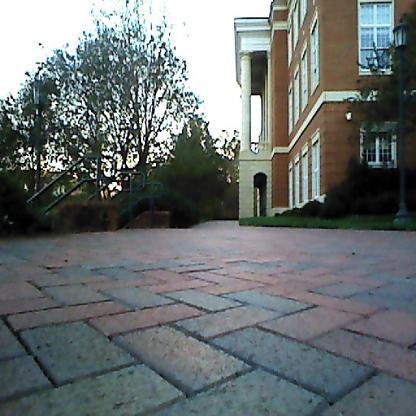Sidewalk: (0, 221, 416, 416)
